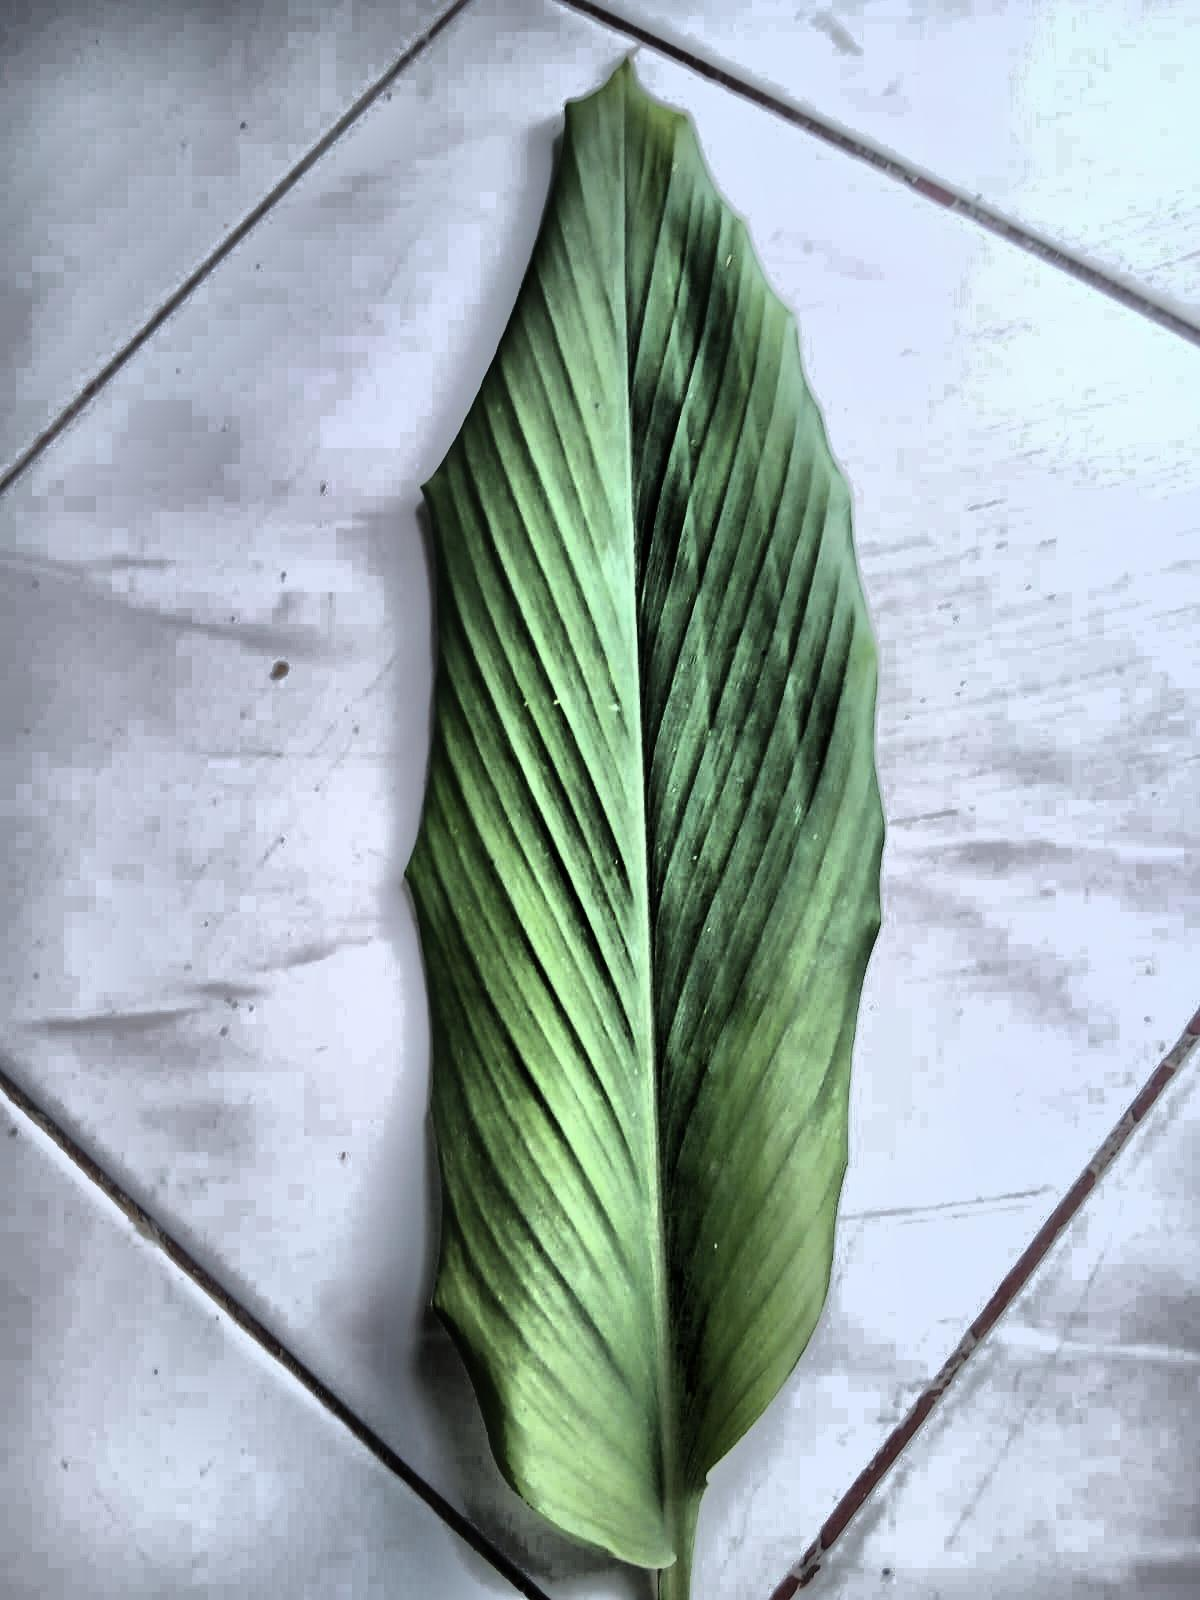daun kunyit: (407, 63, 884, 1599)
